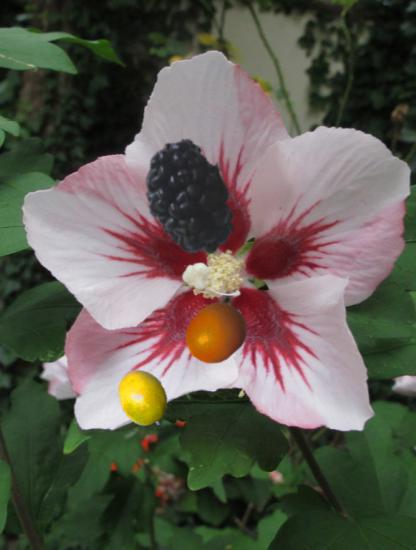Grapefruit: (184, 301, 249, 366)
Maracuja: (113, 368, 175, 430)
Mulberry: (109, 132, 242, 265)
